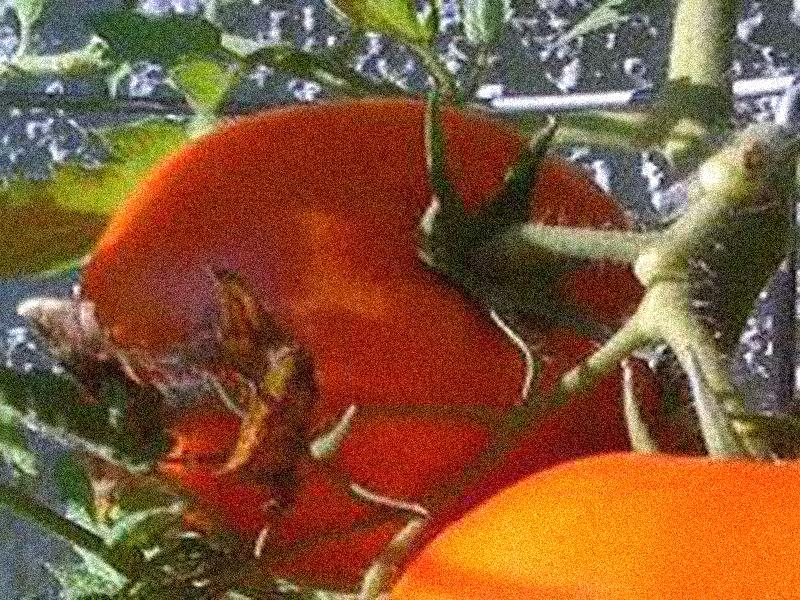Tomato: (73, 96, 648, 583)
